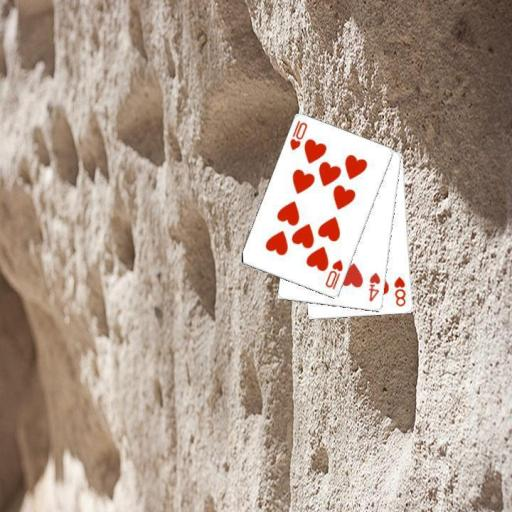card-corner: (322, 257, 345, 291), (286, 118, 308, 152), (391, 274, 408, 308), (365, 269, 382, 303)
